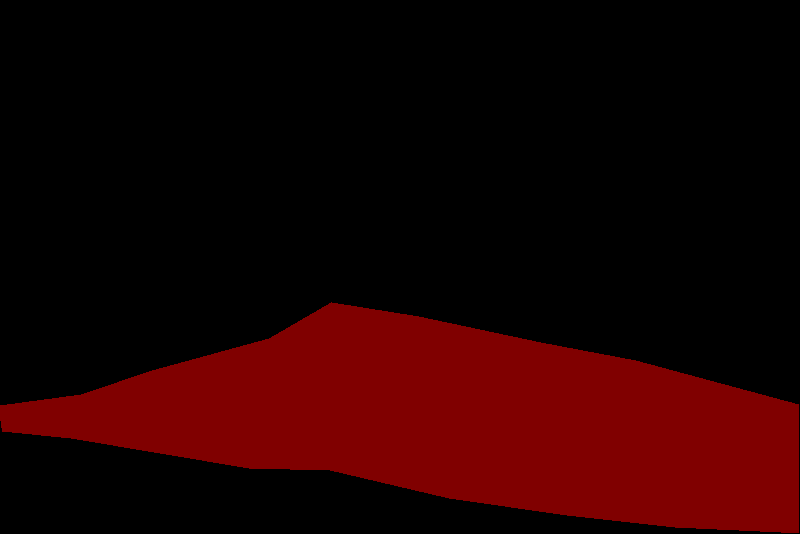fire: (0, 302, 798, 532)
